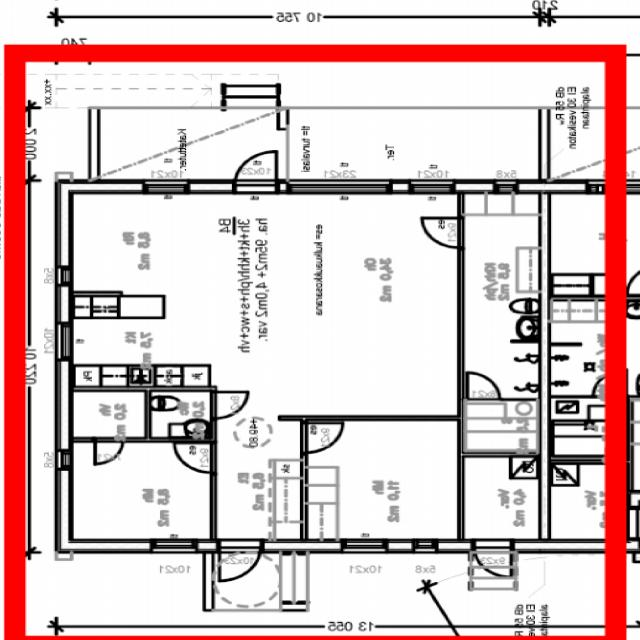door: (220, 539, 262, 586), (236, 147, 276, 193), (474, 539, 512, 582), (420, 217, 464, 248), (301, 423, 344, 452), (174, 443, 216, 472), (467, 371, 500, 401), (210, 392, 248, 418), (96, 438, 122, 464)
